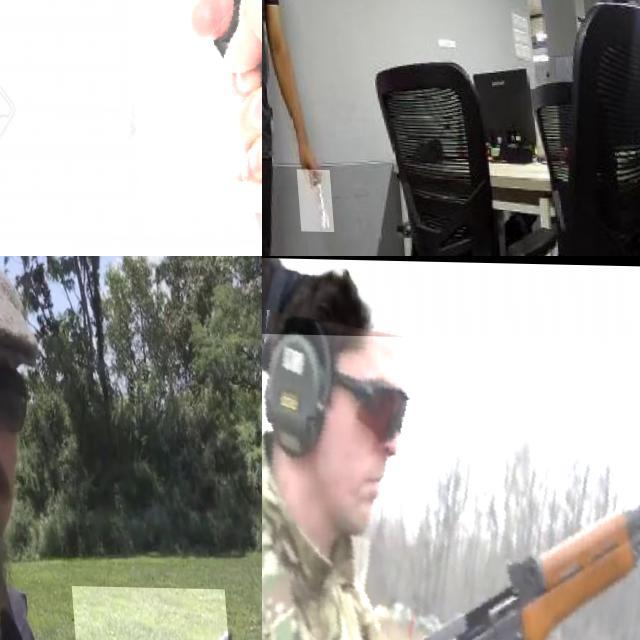-: (290, 168, 326, 231)
gun-knife-thesis - v11 Yolov5 augmented: (262, 332, 640, 640), (111, 0, 262, 213), (66, 584, 235, 640)
